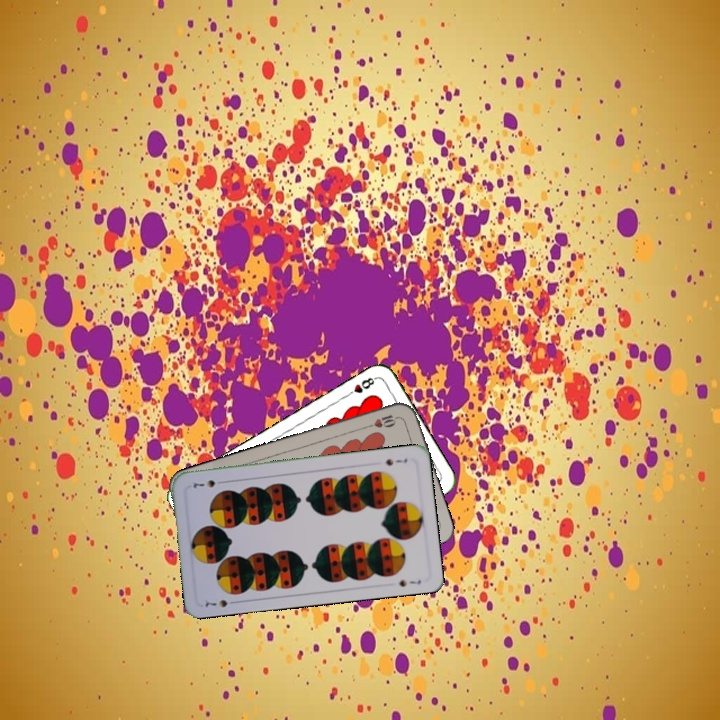H10: (362, 410, 402, 430)
H8: (342, 373, 379, 399)
S7: (201, 595, 240, 610), (381, 454, 410, 468)
